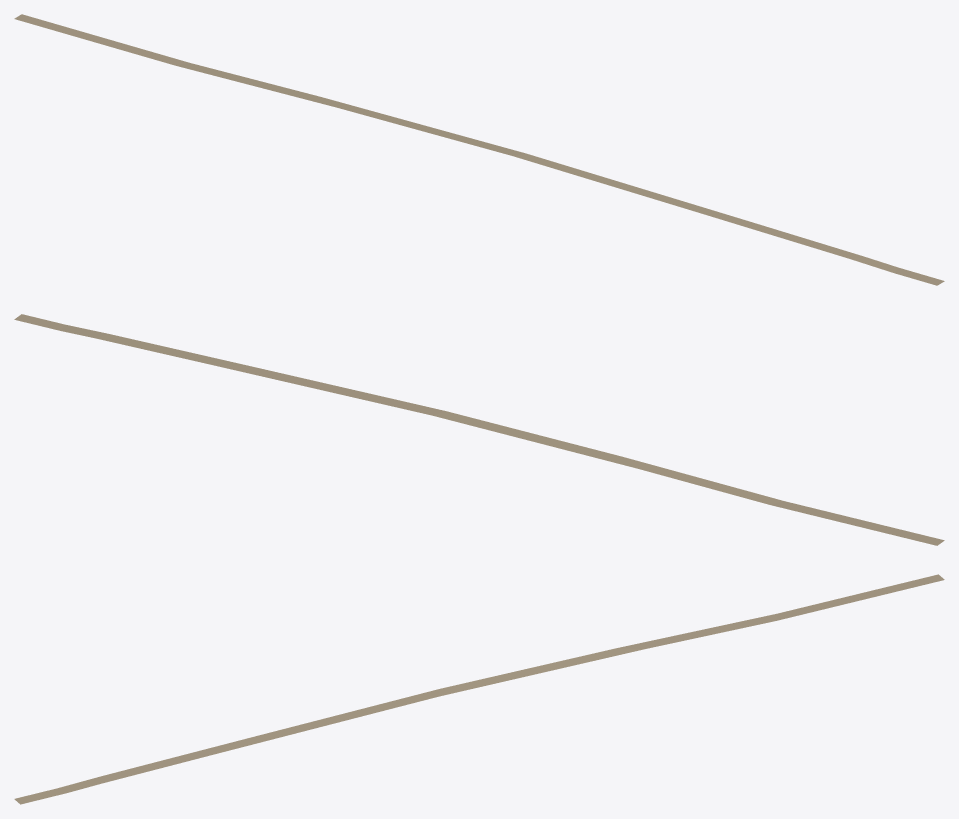
File: farm_5_8_track.glb
3 renders of one model, top to bottom at view 1: azimuth 30°, elevation 25°; view 2: azimuth 210°, elevation 25°; view 3: azimuth 270°, elevation 25°, orthographic. The views are drawn at different scales.
Visible parts, largest first — view 1: geometry_0; view 2: geometry_0; view 3: geometry_0.
Boxes of the visible parts, x1,y1,x2,y2 form: geometry_0: [14, 14, 944, 285]; geometry_0: [14, 314, 944, 545]; geometry_0: [14, 574, 944, 804].
Size of the model in its own units: 118 by 5.18 by 221.
